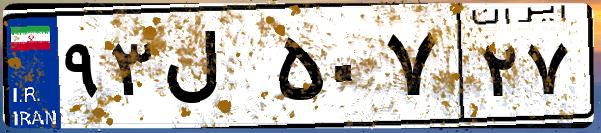0: (330, 28, 385, 110)
2: (475, 38, 525, 113)
3: (110, 28, 158, 98)
5: (270, 28, 330, 110)
7: (385, 28, 445, 110), (525, 38, 570, 115)
9: (57, 26, 110, 100)
ل: (158, 20, 270, 120)
